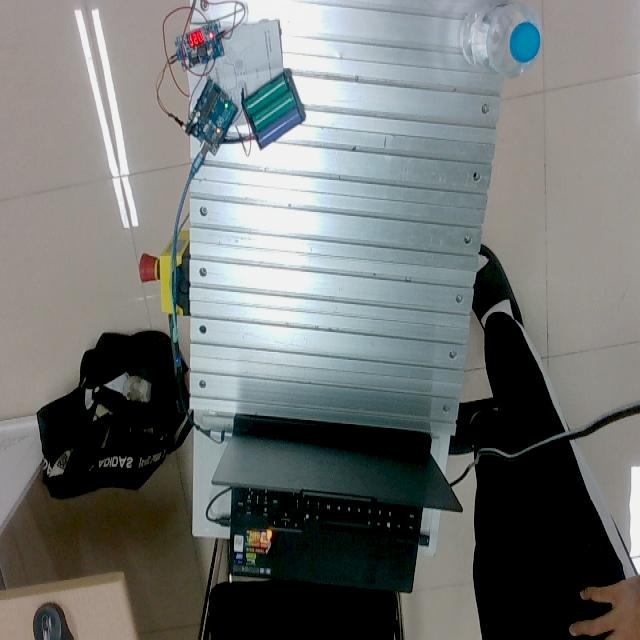lavie: (459, 2, 543, 78)
